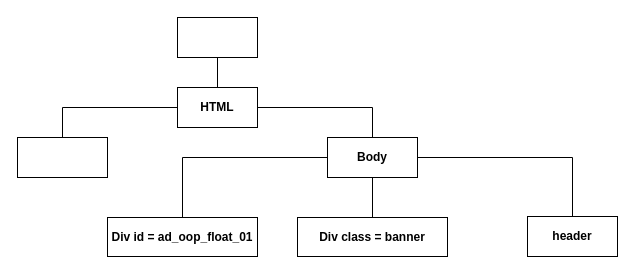
The diagram is 635 pixels wide and 274 high, and some of its shapes have lost their labels. Here are the shapes that lost their labels. From the top down, the centre of each, then its label:
[217,37]: Document
[62,157]: Head
